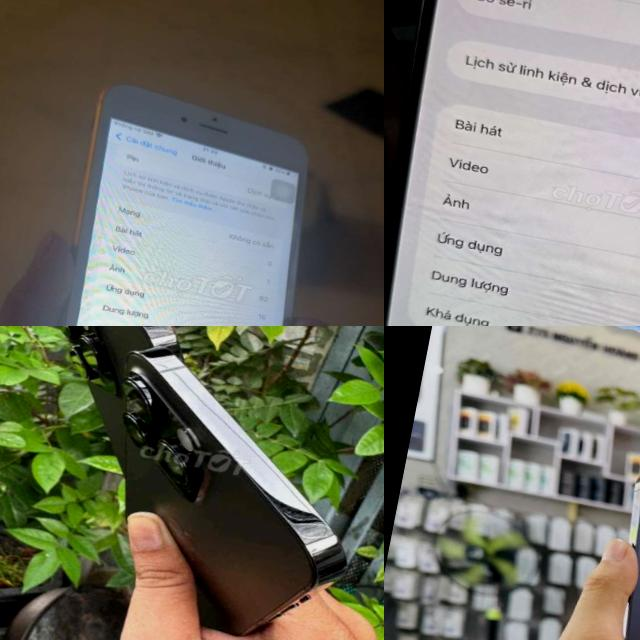gen_14: (74, 340, 381, 640)
gen_16: (384, 0, 640, 326)
gen_6: (31, 81, 353, 326)
